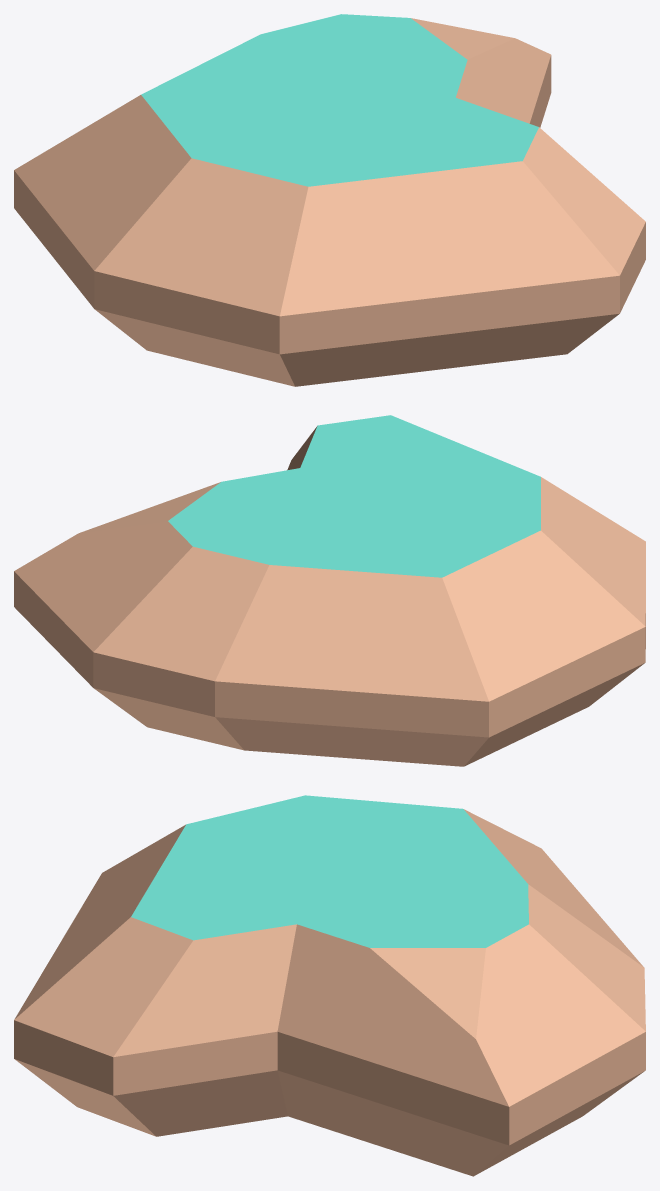
Rendered from rock_largeC.gltf.
3 renders of one model, top to bottom at view 1: azimuth 30°, elevation 25°; view 2: azimuth 150°, elevation 25°; view 3: azimuth 270°, elevation 25°, orthographic. The views are drawn at different scales.
Parts seen in each view (by area): view 1: rock_largeC; view 2: rock_largeC; view 3: rock_largeC.
Part boxes in pixels (x1,y1,x2,y2): rock_largeC: [14, 14, 645, 386]; rock_largeC: [14, 415, 645, 766]; rock_largeC: [14, 795, 645, 1176].
Size of the model in its own units: 1.06 by 0.3211 by 1.02.
